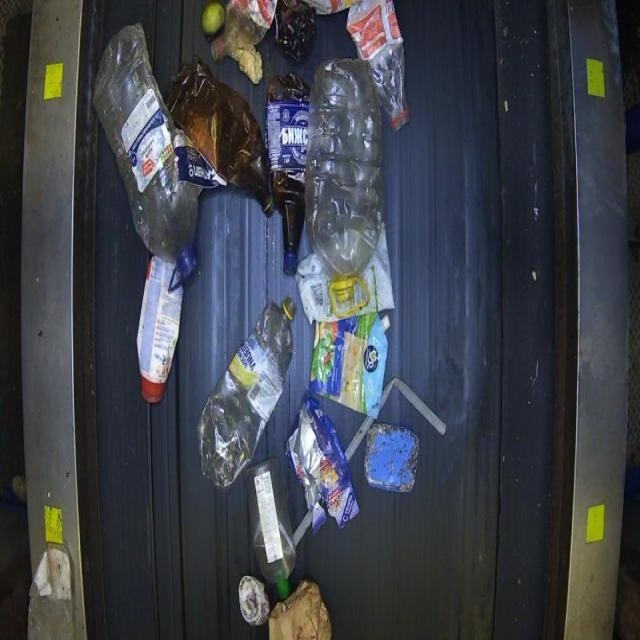trashbin: (15, 0, 633, 639)
